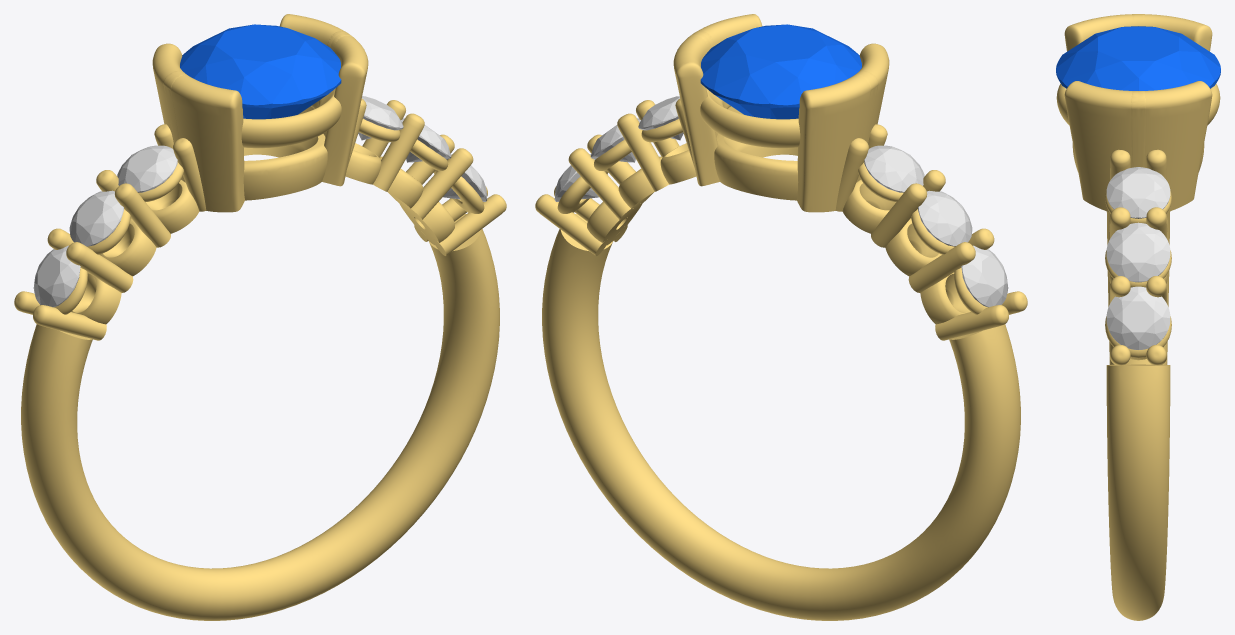
Rendered from bluesapphire-round-yellowgold-halfmoonbezel-taperedband-3stone.glb.
The picture shows the model from 3 angles, left to right: view 1: azimuth 30°, elevation 25°; view 2: azimuth 150°, elevation 25°; view 3: azimuth 270°, elevation 25°; orthographic projection. The views are drawn at different scales.
Visible parts, largest first — view 1: metal, stone, side.001, side, side.002, side.003, side.004; view 2: metal, stone, side.001, side, side.002, side.003, side.004; view 3: metal, stone, side.005, side.004, side.003.
Boxes of the visible parts, <box> form: metal: <box>14,14,506,620</box>; stone: <box>180,24,341,119</box>; side.001: <box>69,190,123,246</box>; side: <box>117,145,177,192</box>; side.002: <box>33,245,80,307</box>; side.003: <box>358,96,403,140</box>; side.004: <box>401,118,451,162</box>; metal: <box>535,14,1027,620</box>; stone: <box>700,24,861,119</box>; side.001: <box>918,190,972,246</box>; side: <box>864,145,924,192</box>; side.002: <box>961,245,1008,307</box>; side.003: <box>638,96,683,140</box>; side.004: <box>590,118,640,162</box>; metal: <box>1056,14,1220,620</box>; stone: <box>1056,26,1220,90</box>; side.005: <box>1106,286,1170,349</box>; side.004: <box>1106,222,1170,282</box>; side.003: <box>1106,167,1170,218</box>.
Size of the model in its own units: 20.58 by 23.81 by 6.44.
